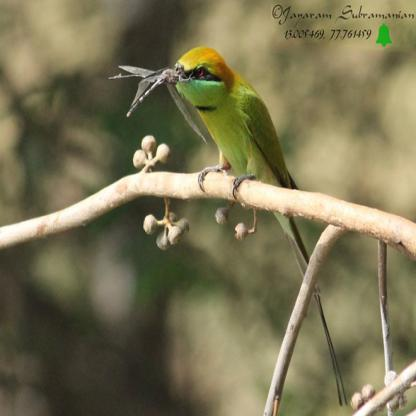Burung: (107, 45, 346, 407)
